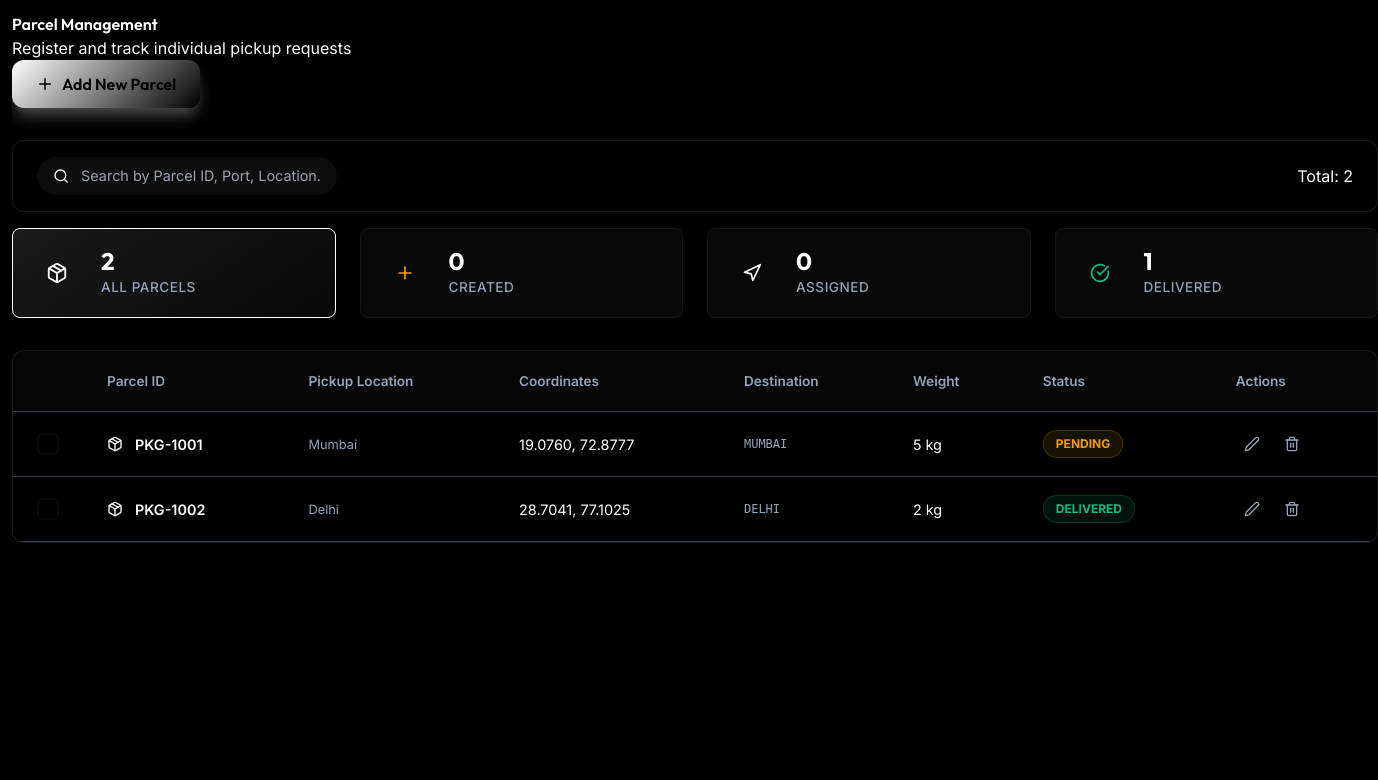
Test: Frontend Main Application Flows › Parcels Management Page › should toggle form when Add New Parcel is clicked
Click the button "Add New Parcel". click: click(106, 84)
box: [12,60,200,108]
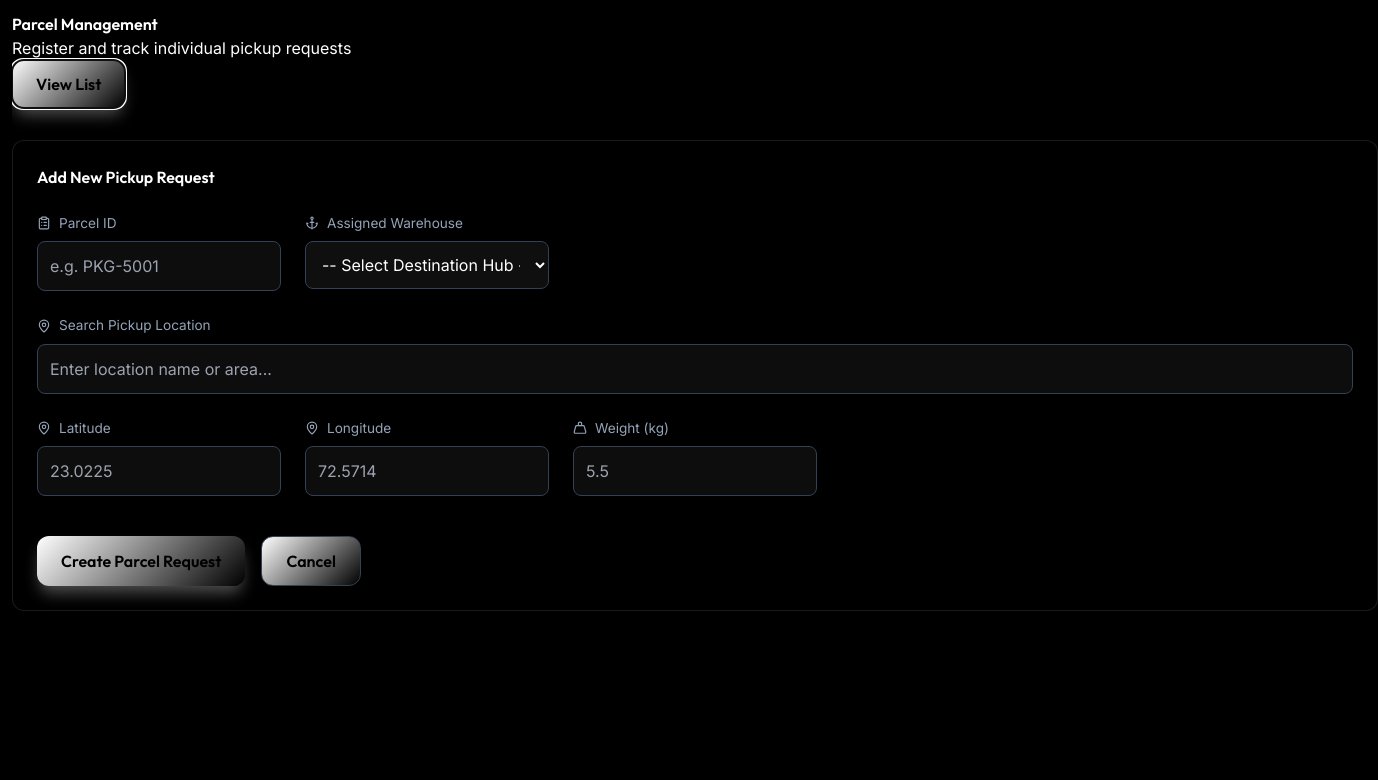
Expected: the heading "Add New Pickup Request" is shown, [37,167,215,187]
